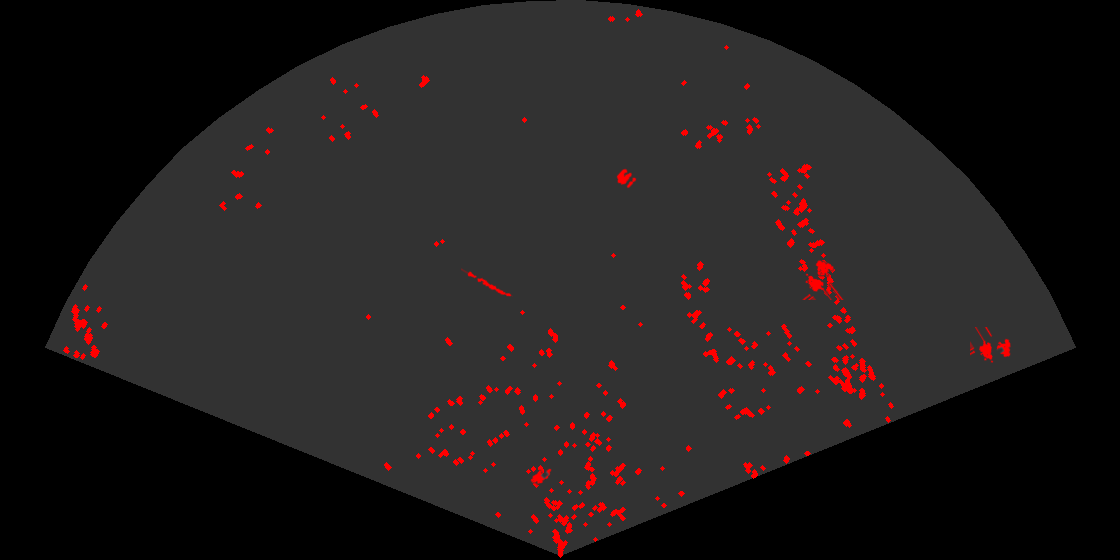AUV: (529, 467, 553, 486)
ball: (615, 167, 638, 190)
cage: (801, 258, 844, 300), (970, 327, 1012, 364)
chain: (461, 267, 513, 298)
